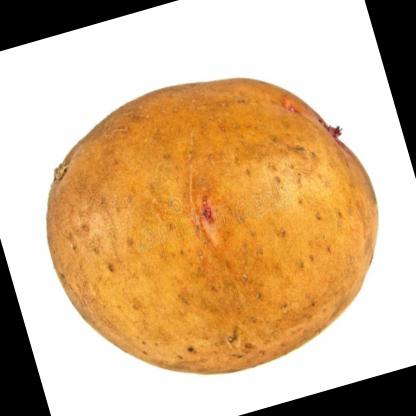potato: (12, 37, 413, 414)
